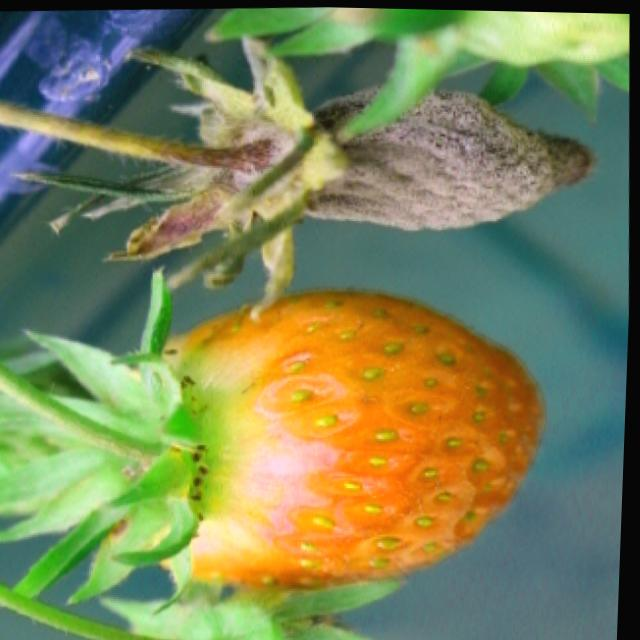Gray Mold: (102, 35, 594, 305)
